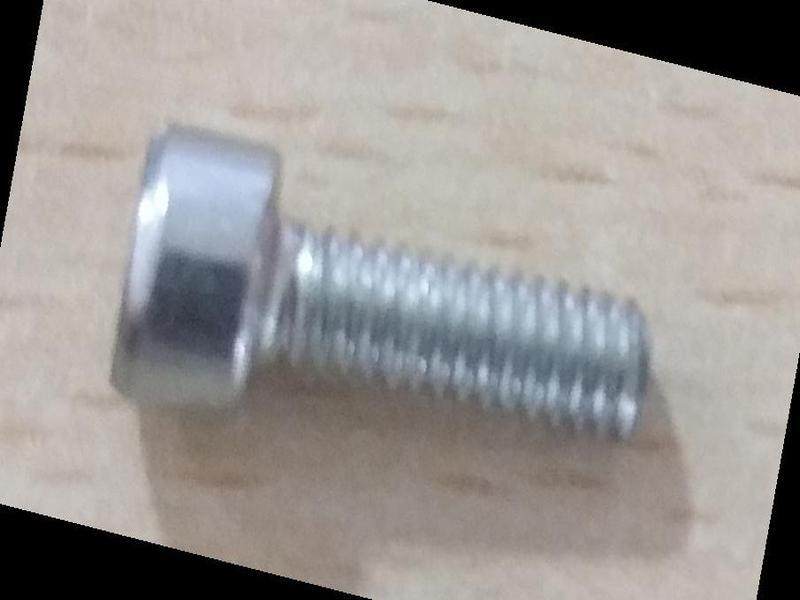smallscrew: (101, 93, 665, 487)
